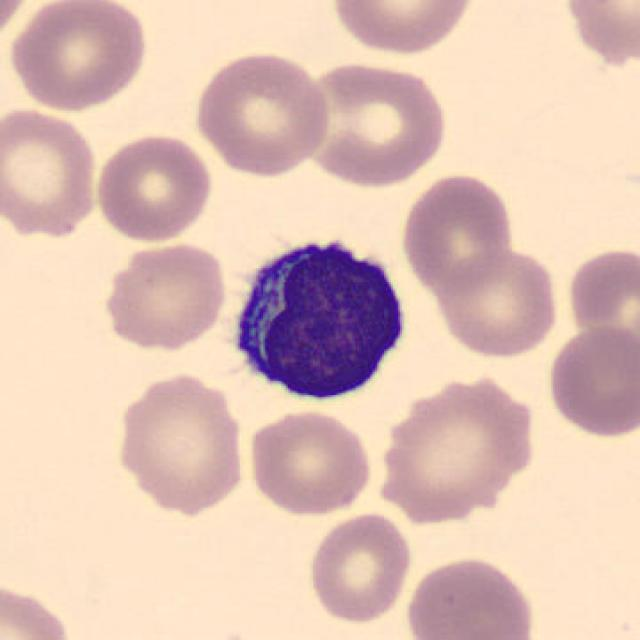Lymphocyte: (218, 226, 418, 410)
RBC: (373, 370, 539, 526), (110, 368, 251, 516), (297, 58, 451, 190), (190, 46, 334, 178), (5, 0, 153, 113), (98, 238, 231, 353), (432, 245, 564, 360), (397, 170, 518, 294), (244, 406, 375, 518), (91, 129, 215, 245), (0, 104, 101, 240), (304, 509, 414, 626), (401, 553, 540, 640), (542, 321, 636, 441), (327, 0, 480, 56), (562, 241, 638, 351), (556, 0, 640, 71), (0, 578, 76, 639), (0, 0, 41, 48)
